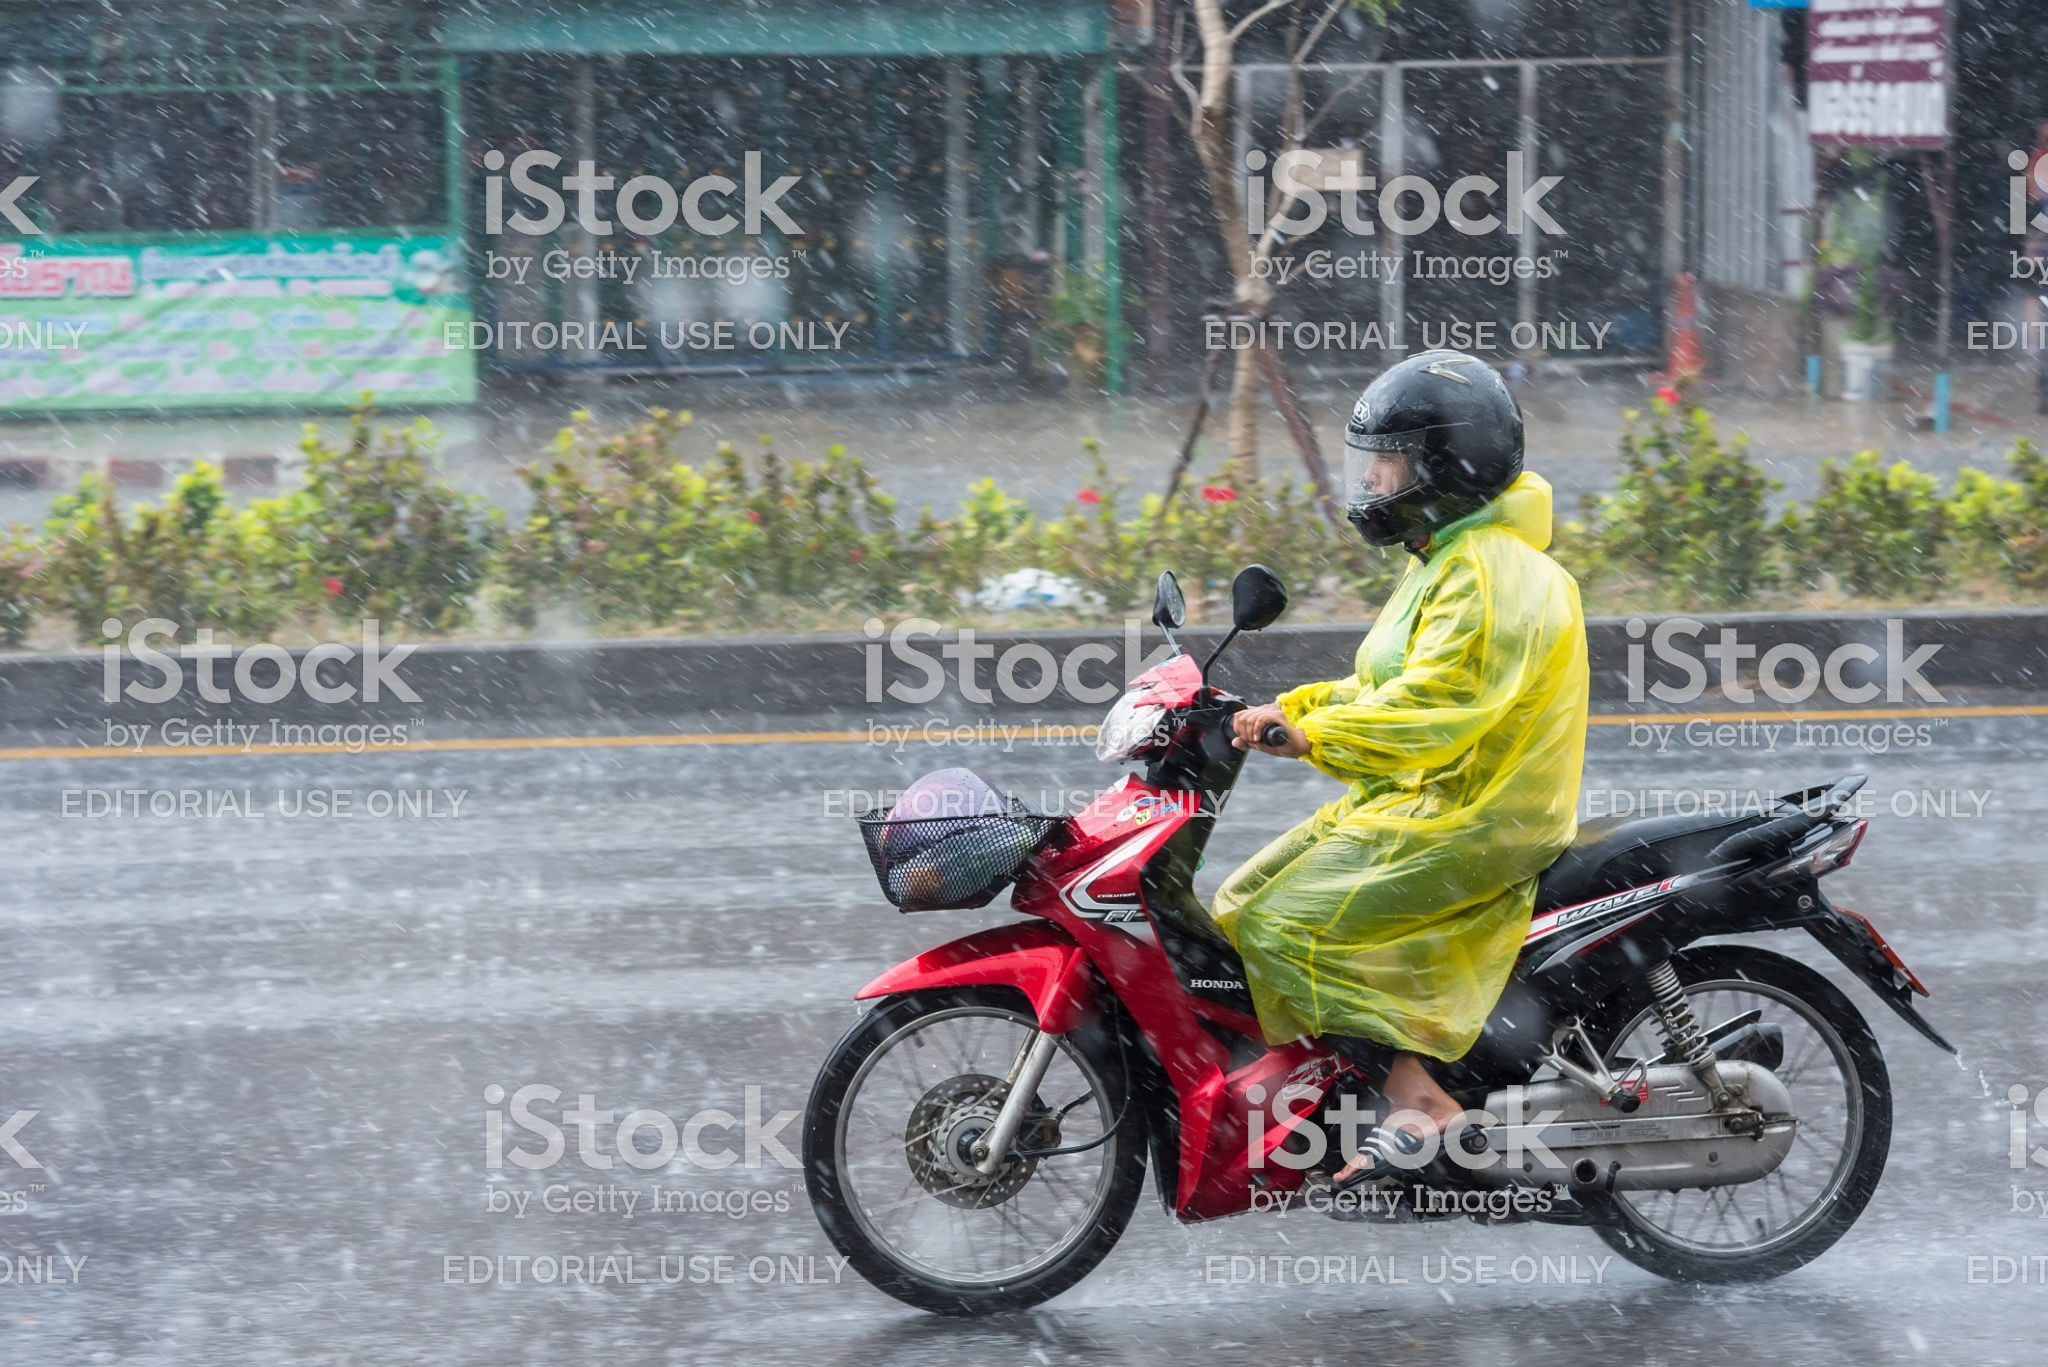helmet: (1343, 345, 1546, 520)
